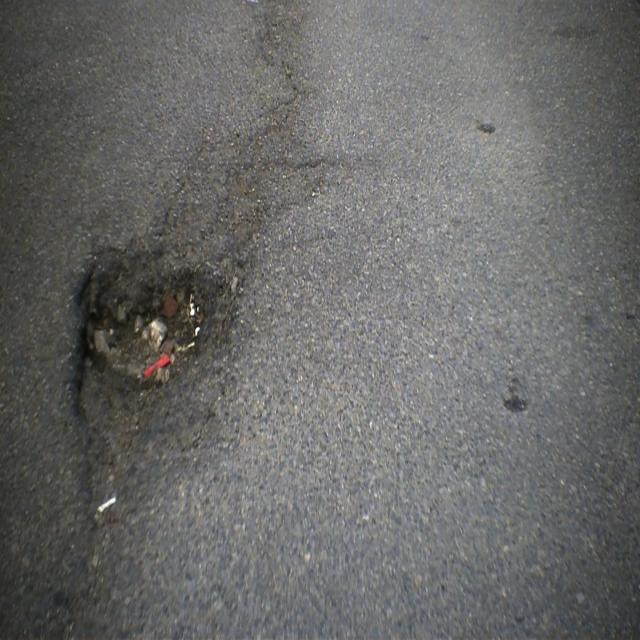Buraco: (62, 224, 265, 536)
